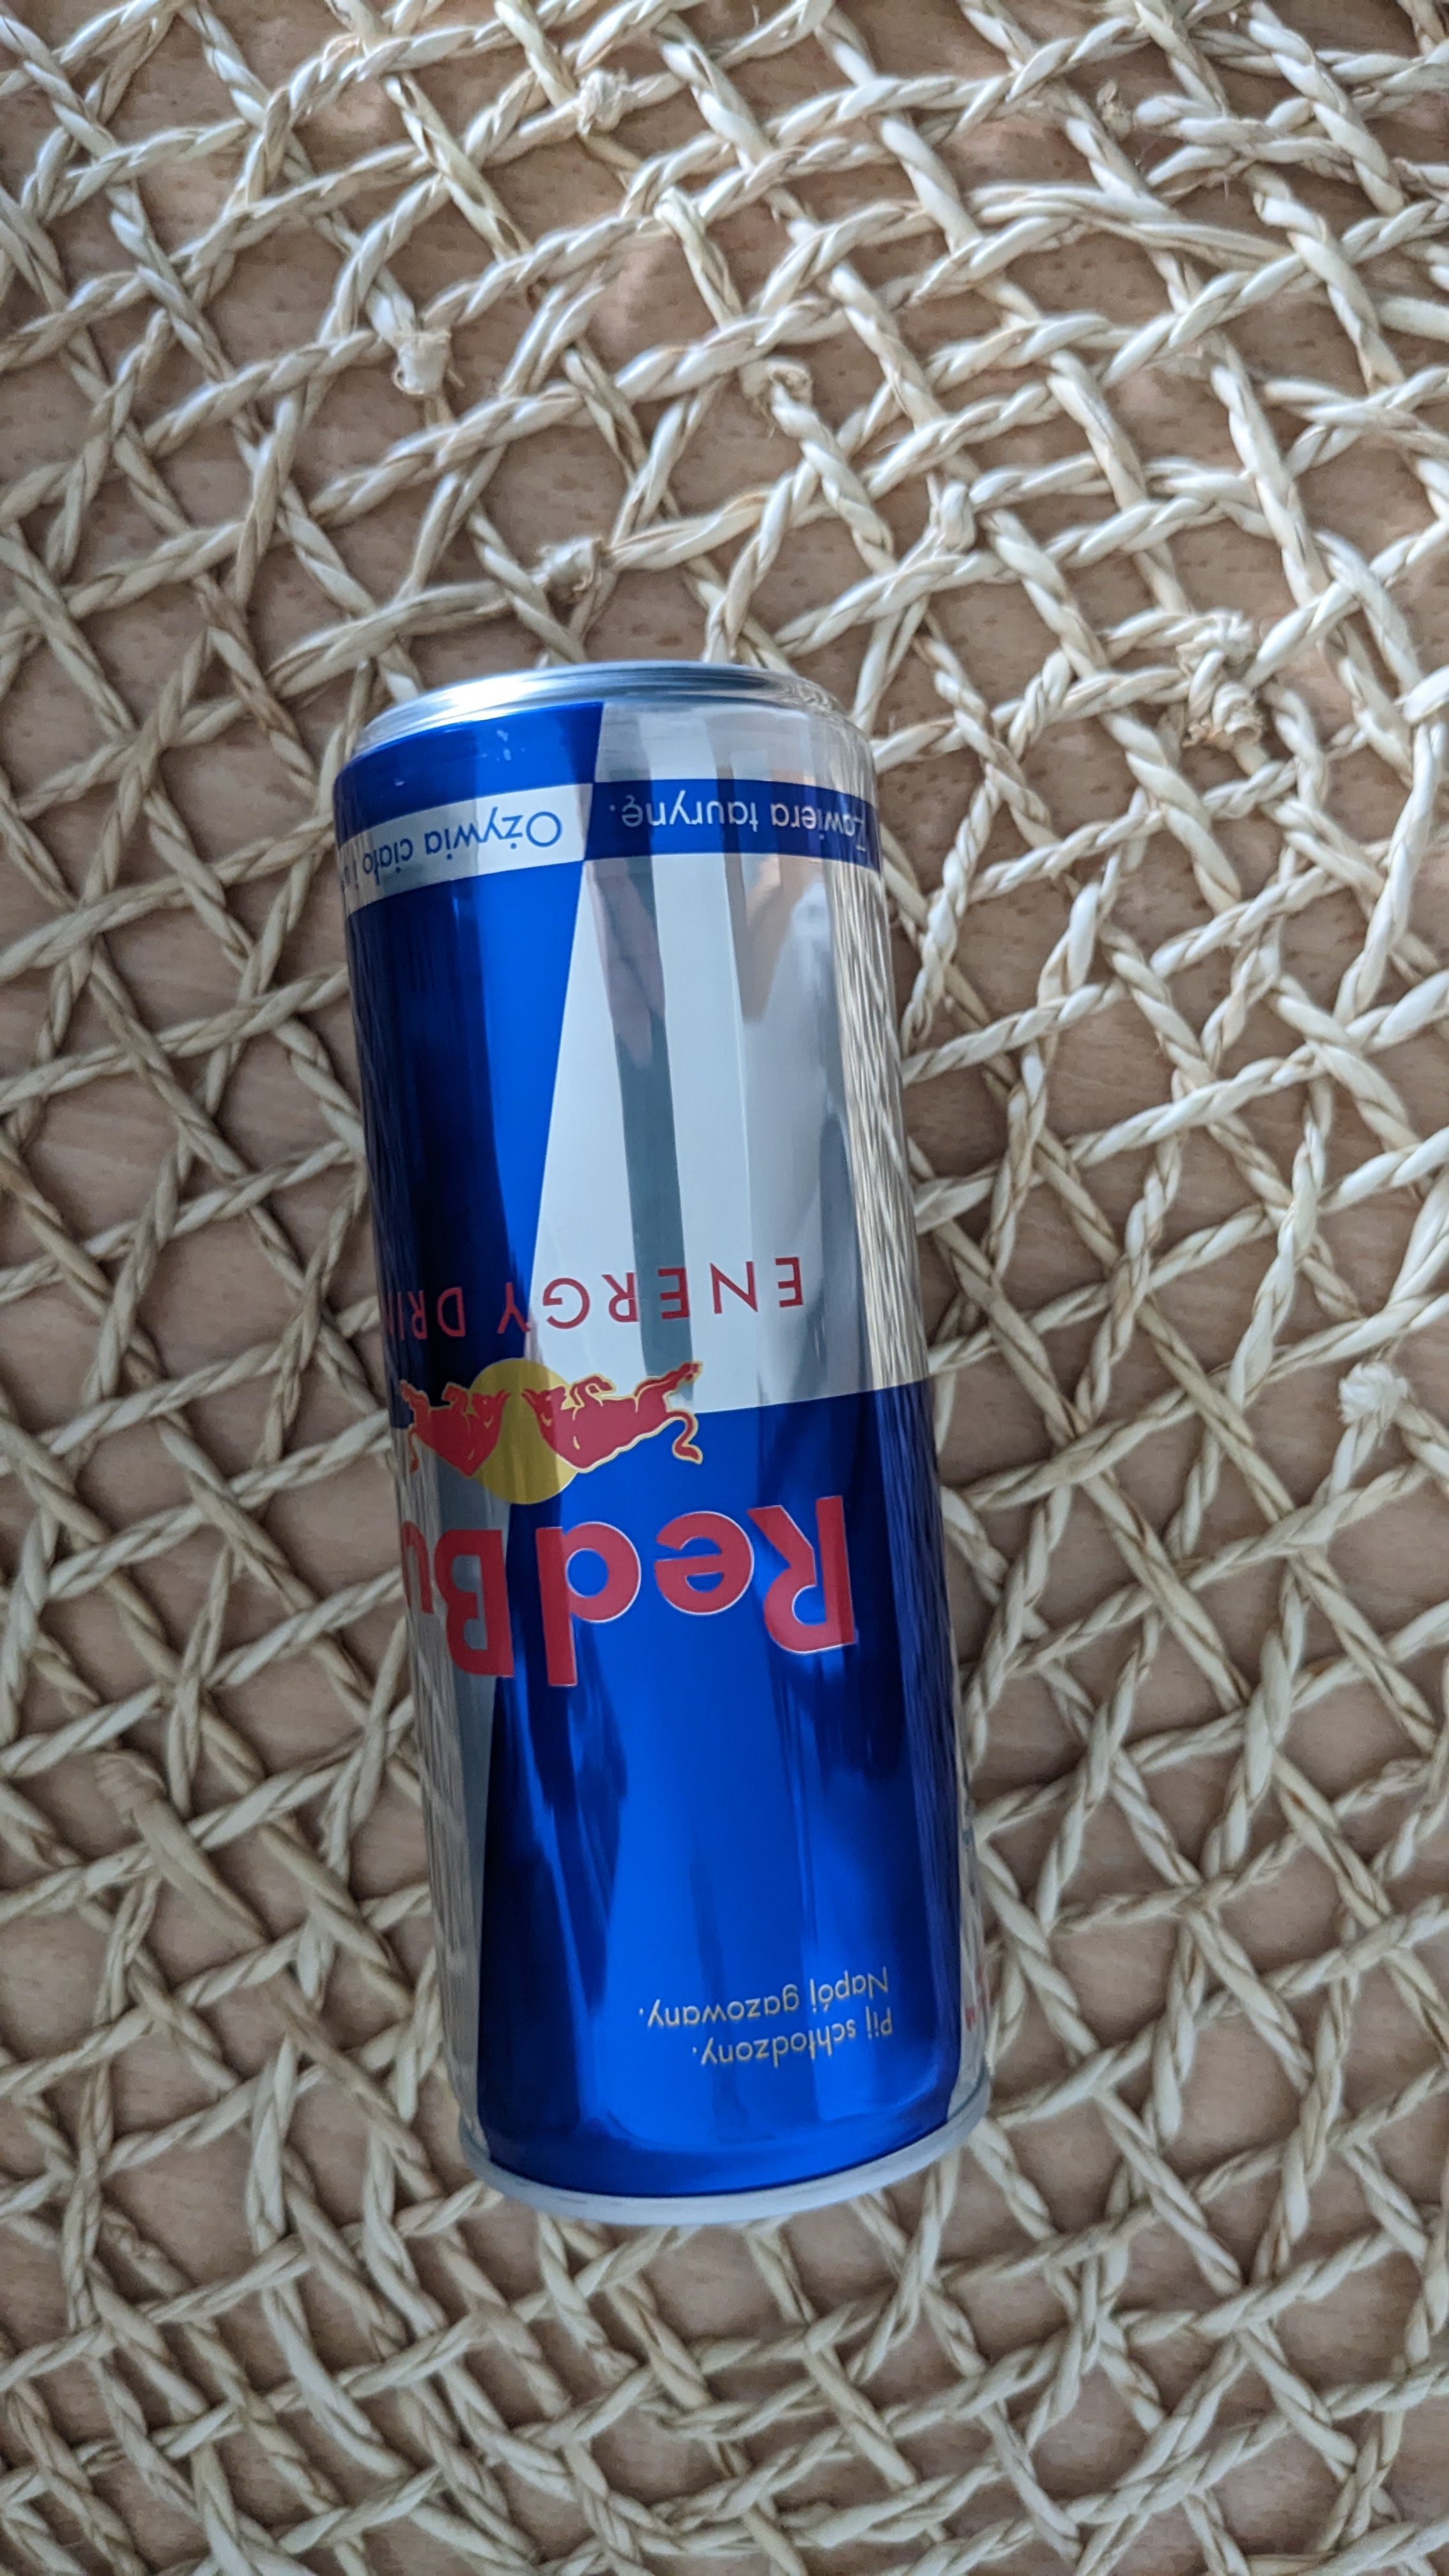red-bull: (322, 626, 1035, 2243)
